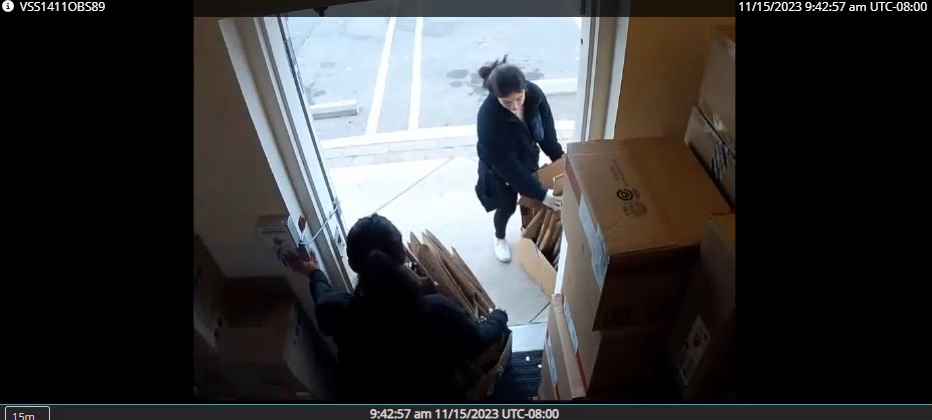gloves: (542, 184, 567, 217)
